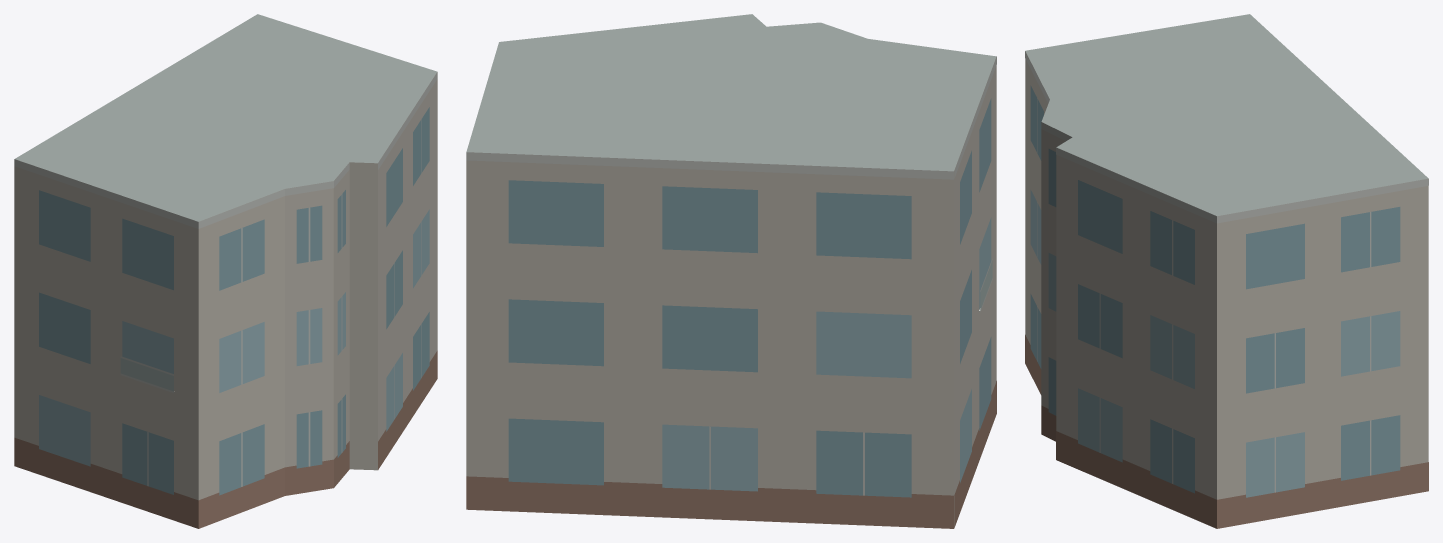
Rendered from survey-upis-32978912.glb.
3 views of the same model, side by side, from view 1: azimuth 30°, elevation 25°; view 2: azimuth 150°, elevation 25°; view 3: azimuth 270°, elevation 25° (orthographic). The views are drawn at different scales.
Parts seen in each view (by area): view 1: survey-upis-32978912.tmp; view 2: survey-upis-32978912.tmp; view 3: survey-upis-32978912.tmp.
Boxes of the visible parts, x1,y1,x2,y2 form: survey-upis-32978912.tmp: [14, 14, 437, 528]; survey-upis-32978912.tmp: [466, 14, 996, 528]; survey-upis-32978912.tmp: [1025, 14, 1428, 528].
Bounding box in the file's own units: 14.64 × 10.55 × 12.36.
